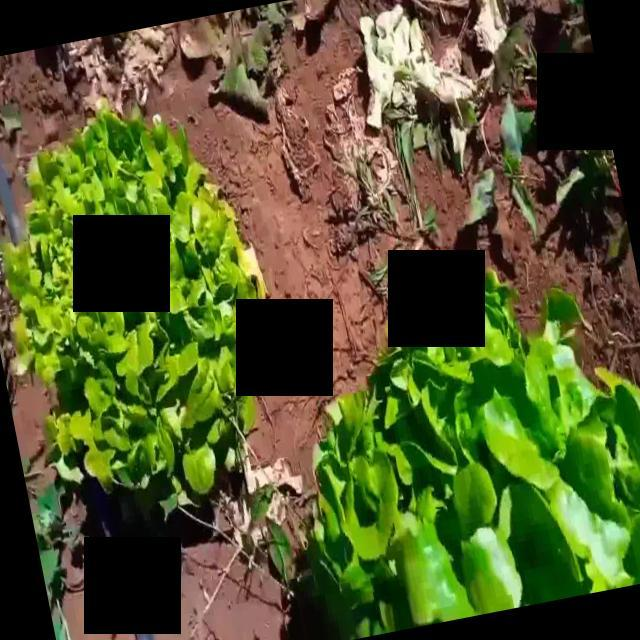Lettuce: (297, 274, 640, 640), (0, 111, 261, 506)
